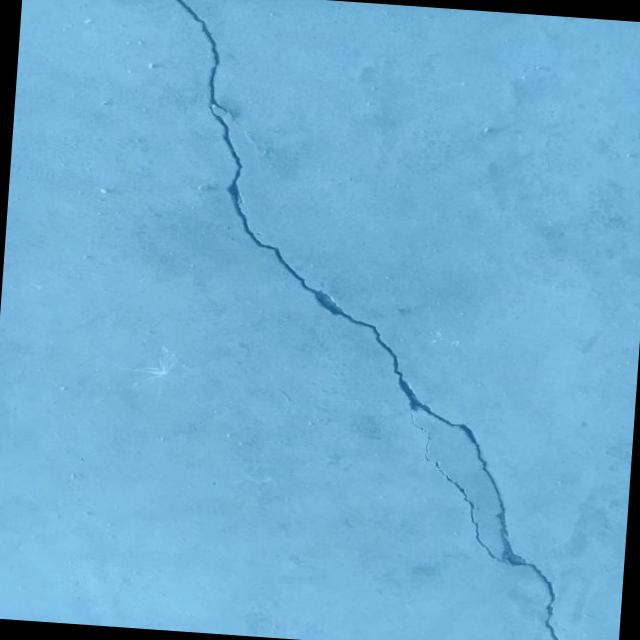crack: (82, 0, 606, 640)
